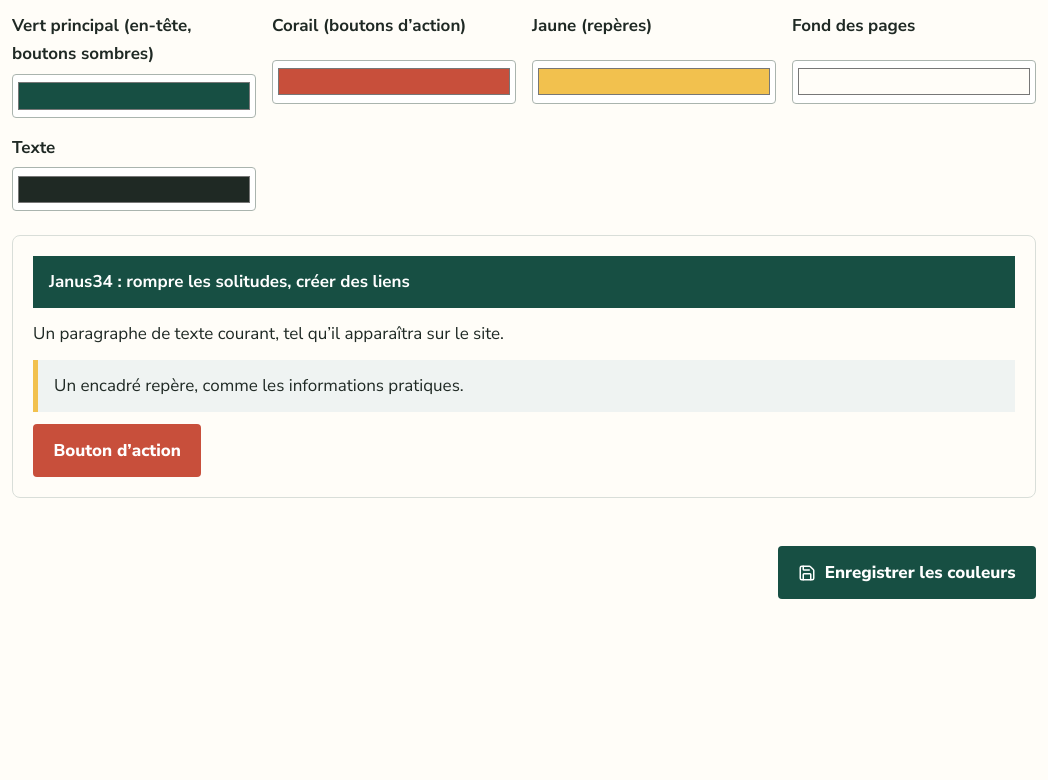
previews a colour before it is saved, with its readability
Type "#eeeeee" into the colour field labelled "Texte" at (134, 189), box top-left (12, 167), bottom-right (256, 211)
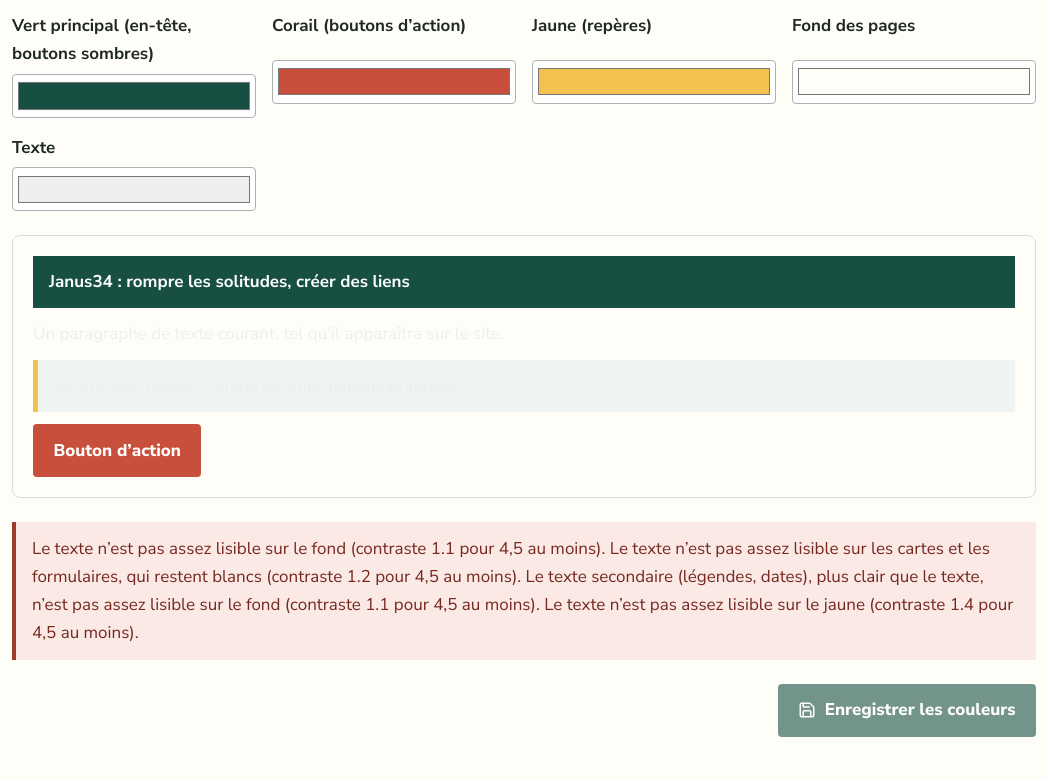
Expected: the message shows "texte n’est pas assez lisible", top-left (32, 537), bottom-right (1013, 644)
